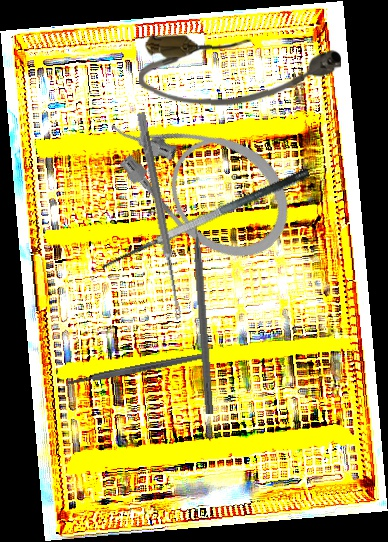Cannula: (88, 70, 312, 281), (138, 34, 342, 108)
Chopper: (190, 209, 226, 415)
Scalpel Handle: (67, 351, 209, 387)
Spatula Surgical: (96, 165, 319, 285)
Surgical Spoon: (135, 111, 185, 321)
